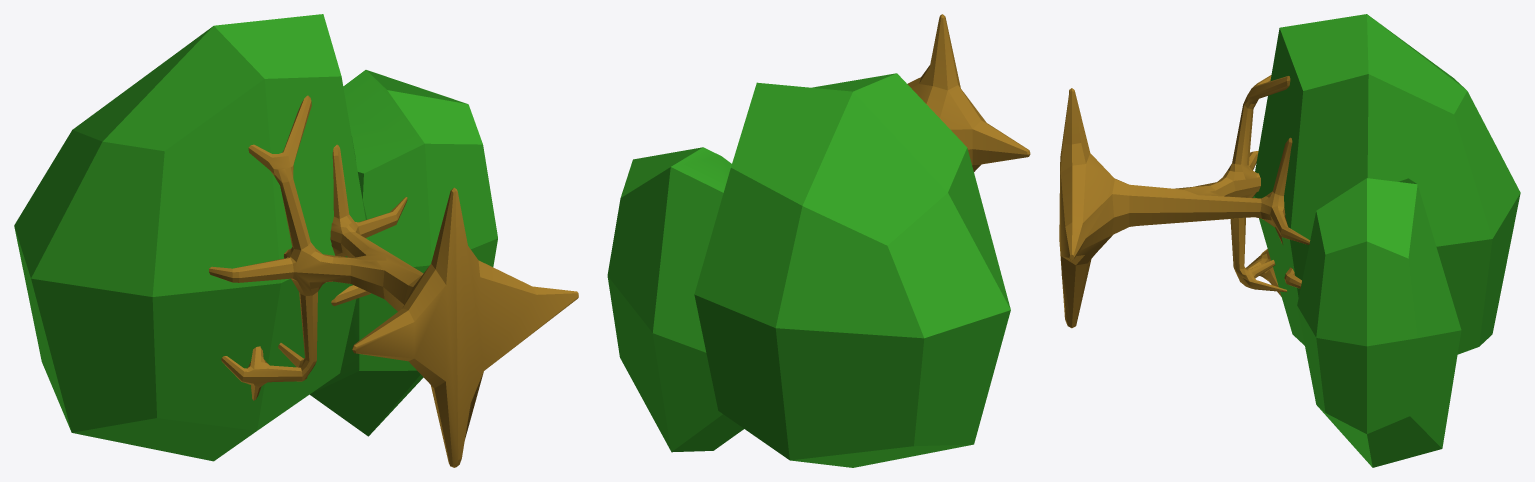
File: Arbol (modelo 2).fbx
The picture shows the model from 3 angles, left to right: view 1: azimuth 30°, elevation 25°; view 2: azimuth 150°, elevation 25°; view 3: azimuth 270°, elevation 25°; orthographic projection. The views are drawn at different scales.
Parts seen in each view (by area): view 1: tronco.001; view 2: tronco.001; view 3: tronco.001.
Boxes of the visible parts, x1,y1,x2,y2 form: tronco.001: (14,14,578,467); tronco.001: (607,14,1030,467); tronco.001: (1059,14,1520,467).
Size of the model in its own units: 732 by 690 by 744.
